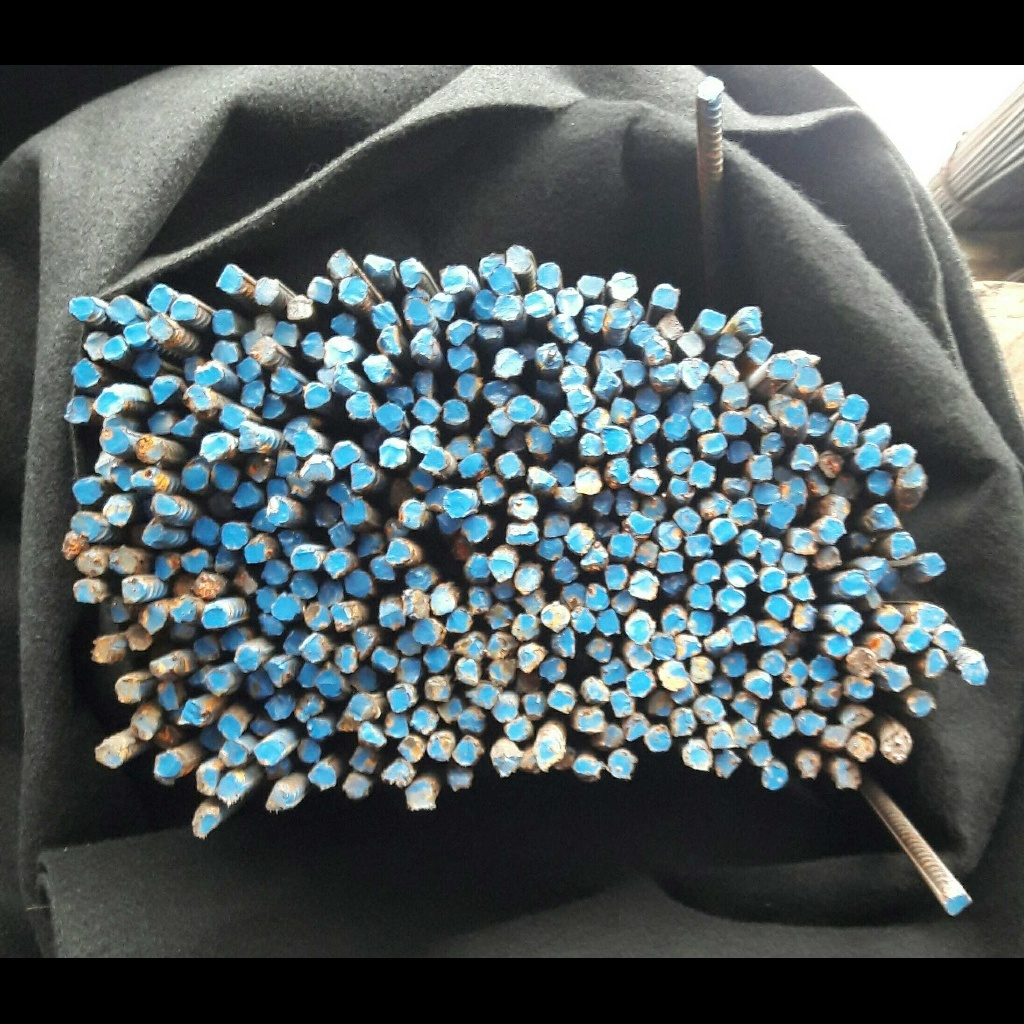dipstick: (881, 730, 912, 764), (295, 692, 325, 722), (695, 695, 725, 725), (382, 758, 413, 787), (566, 523, 595, 554), (71, 359, 101, 388), (150, 376, 180, 405), (379, 438, 408, 468), (608, 271, 638, 300), (680, 359, 709, 389), (847, 648, 876, 678), (327, 248, 355, 279), (507, 519, 539, 546), (765, 501, 797, 528), (494, 348, 523, 377), (541, 604, 570, 633), (847, 732, 876, 761), (139, 604, 167, 634), (192, 809, 220, 839), (441, 264, 469, 294), (549, 684, 577, 714), (525, 425, 555, 453), (604, 458, 632, 488), (631, 414, 659, 444), (732, 719, 760, 749), (405, 783, 436, 810), (493, 294, 524, 321), (809, 655, 840, 682), (377, 326, 405, 355), (348, 695, 377, 723), (550, 410, 579, 438), (559, 365, 587, 394), (506, 244, 534, 273), (602, 425, 630, 454), (669, 707, 697, 736), (630, 571, 658, 600), (632, 468, 661, 496), (106, 296, 136, 323), (132, 351, 162, 378), (338, 277, 368, 304), (534, 739, 561, 769), (608, 750, 635, 780), (525, 289, 552, 319), (840, 394, 870, 421), (882, 665, 912, 692), (303, 456, 334, 482), (135, 435, 163, 463), (184, 384, 212, 412), (211, 462, 239, 490), (307, 276, 335, 304), (376, 403, 404, 431), (350, 745, 378, 773), (400, 500, 428, 528), (488, 660, 516, 688), (472, 681, 500, 709), (582, 406, 610, 434), (728, 616, 756, 644), (717, 586, 745, 614), (131, 711, 158, 740), (266, 693, 295, 720), (147, 284, 174, 313), (488, 631, 517, 658), (597, 348, 626, 375), (744, 673, 773, 700), (100, 427, 130, 453), (470, 290, 496, 320), (725, 560, 755, 586), (833, 763, 863, 789), (526, 466, 557, 491), (84, 332, 111, 360), (264, 660, 292, 687), (332, 604, 359, 632), (345, 570, 373, 597), (233, 481, 261, 508), (201, 435, 229, 462), (196, 361, 224, 388), (303, 382, 331, 409), (410, 425, 437, 453), (444, 490, 472, 517), (479, 476, 506, 504), (462, 516, 490, 543), (575, 467, 602, 495), (688, 656, 716, 683), (673, 507, 701, 534), (94, 391, 123, 417), (104, 499, 133, 525), (124, 624, 153, 650), (270, 367, 299, 393), (363, 354, 392, 380), (404, 298, 433, 324), (630, 321, 659, 347), (917, 604, 946, 630), (764, 760, 789, 790), (72, 480, 103, 504), (65, 396, 92, 423), (206, 668, 233, 695), (291, 572, 318, 599), (328, 337, 355, 364), (601, 563, 628, 590), (567, 387, 594, 414), (549, 460, 576, 487), (181, 547, 209, 573), (219, 741, 247, 767), (302, 633, 328, 661), (272, 594, 300, 620), (324, 551, 350, 579), (254, 277, 280, 305), (250, 336, 278, 362), (359, 722, 387, 748), (412, 398, 440, 424), (510, 494, 538, 520), (552, 556, 578, 584), (558, 288, 584, 316), (688, 610, 716, 636), (656, 522, 682, 550), (779, 401, 807, 427), (868, 634, 896, 660), (95, 743, 124, 768), (330, 313, 359, 338), (797, 710, 826, 735), (71, 513, 101, 537), (73, 577, 103, 601), (183, 701, 213, 725), (364, 254, 394, 278), (839, 572, 870, 595), (170, 596, 196, 623), (254, 739, 281, 765), (309, 763, 336, 789), (262, 560, 289, 586), (349, 463, 376, 489), (301, 332, 327, 359), (371, 302, 397, 329), (346, 392, 373, 418), (407, 566, 434, 592), (442, 399, 469, 425), (446, 320, 473, 346), (455, 373, 482, 399), (508, 395, 535, 421), (515, 568, 541, 595), (584, 678, 610, 705), (537, 343, 564, 369), (565, 341, 592, 367), (610, 397, 636, 424), (686, 744, 713, 770), (661, 664, 688, 690), (652, 284, 679, 310), (678, 331, 705, 357), (790, 444, 817, 470), (830, 420, 857, 446), (343, 773, 371, 798), (217, 264, 242, 292), (285, 295, 313, 320), (410, 709, 438, 734), (399, 259, 424, 287), (578, 708, 606, 733), (182, 464, 208, 490), (115, 677, 141, 703), (305, 604, 331, 630), (329, 521, 355, 547), (273, 322, 299, 348), (371, 648, 397, 674), (428, 735, 454, 761), (423, 646, 449, 672), (459, 708, 485, 734), (505, 716, 531, 742), (663, 414, 689, 440), (877, 608, 903, 634), (332, 443, 359, 468), (523, 693, 548, 720), (538, 535, 565, 560), (720, 651, 747, 676), (738, 307, 763, 334), (335, 645, 359, 673), (573, 758, 601, 782), (711, 360, 739, 384), (722, 384, 750, 408), (791, 576, 819, 600), (867, 471, 895, 495), (833, 612, 861, 636), (812, 683, 840, 707), (706, 726, 735, 749), (871, 506, 900, 529), (110, 465, 136, 490), (155, 753, 181, 778), (221, 625, 246, 651), (267, 786, 293, 811), (221, 523, 247, 548), (211, 309, 236, 335), (453, 739, 478, 765), (397, 658, 423, 683), (431, 588, 456, 614), (413, 620, 438, 646), (488, 604, 513, 630), (431, 294, 456, 320), (493, 696, 518, 722), (536, 262, 561, 288), (651, 635, 676, 661), (606, 303, 632, 328), (622, 360, 647, 386), (711, 519, 736, 545), (667, 449, 693, 474), (700, 309, 725, 335), (748, 337, 773, 363), (760, 433, 785, 459), (729, 499, 755, 524), (793, 530, 819, 555), (68, 295, 95, 319), (317, 670, 341, 697), (395, 631, 422, 655), (539, 658, 566, 682), (571, 607, 595, 634), (627, 512, 654, 536), (758, 622, 785, 646), (77, 553, 105, 576), (152, 492, 180, 515), (256, 586, 279, 614), (459, 454, 487, 477), (148, 409, 173, 434), (447, 608, 472, 633), (448, 345, 473, 370), (512, 615, 537, 640), (636, 387, 661, 412), (689, 584, 714, 609), (770, 713, 795, 738), (856, 444, 881, 469), (120, 578, 146, 602), (124, 322, 150, 346), (212, 341, 238, 365), (240, 380, 264, 406), (294, 431, 318, 457), (421, 446, 447, 470), (437, 698, 463, 722), (597, 608, 621, 634), (689, 461, 713, 487), (657, 315, 683, 339), (717, 333, 743, 357), (766, 596, 792, 620), (821, 382, 845, 408), (826, 635, 852, 659), (847, 675, 873, 699), (152, 553, 175, 580), (198, 767, 221, 794), (292, 548, 319, 571), (587, 582, 610, 609), (590, 636, 613, 663), (685, 534, 712, 557), (693, 561, 720, 584), (795, 368, 822, 391), (760, 538, 783, 565), (753, 481, 780, 504), (924, 650, 947, 677), (103, 335, 127, 360), (150, 316, 174, 341), (386, 540, 411, 564), (489, 557, 513, 582), (626, 619, 651, 643), (628, 645, 652, 670), (647, 726, 671, 751), (762, 650, 786, 675), (907, 692, 931, 717), (963, 662, 988, 686), (297, 737, 320, 763), (220, 406, 246, 429), (398, 738, 424, 761), (544, 514, 570, 537), (578, 433, 604, 456), (785, 660, 808, 686), (738, 530, 761, 556), (919, 553, 945, 576), (578, 275, 606, 296), (237, 357, 261, 381), (342, 499, 366, 523), (384, 713, 408, 737), (609, 534, 633, 558), (749, 740, 773, 764), (749, 456, 773, 480), (807, 413, 831, 437), (109, 550, 134, 573), (218, 715, 241, 740), (409, 467, 434, 490), (425, 678, 450, 701), (658, 551, 683, 574), (670, 477, 695, 500), (721, 412, 746, 435), (900, 464, 925, 487), (202, 606, 228, 628), (759, 570, 785, 592), (782, 552, 808, 574), (905, 630, 931, 652), (173, 413, 197, 436), (371, 557, 395, 580), (458, 659, 481, 683), (497, 454, 520, 478), (678, 635, 701, 659), (691, 408, 715, 431), (727, 440, 751, 463), (267, 499, 289, 524), (609, 692, 631, 717), (819, 520, 844, 542), (891, 532, 913, 557), (276, 450, 297, 476), (699, 432, 726, 452), (769, 359, 796, 379), (236, 647, 258, 671), (468, 555, 490, 579), (938, 630, 962, 652), (171, 300, 196, 321), (388, 689, 410, 712), (307, 717, 331, 738), (629, 672, 650, 694), (664, 612, 685, 634), (947, 895, 970, 915), (892, 445, 913, 465), (245, 544, 264, 563)
